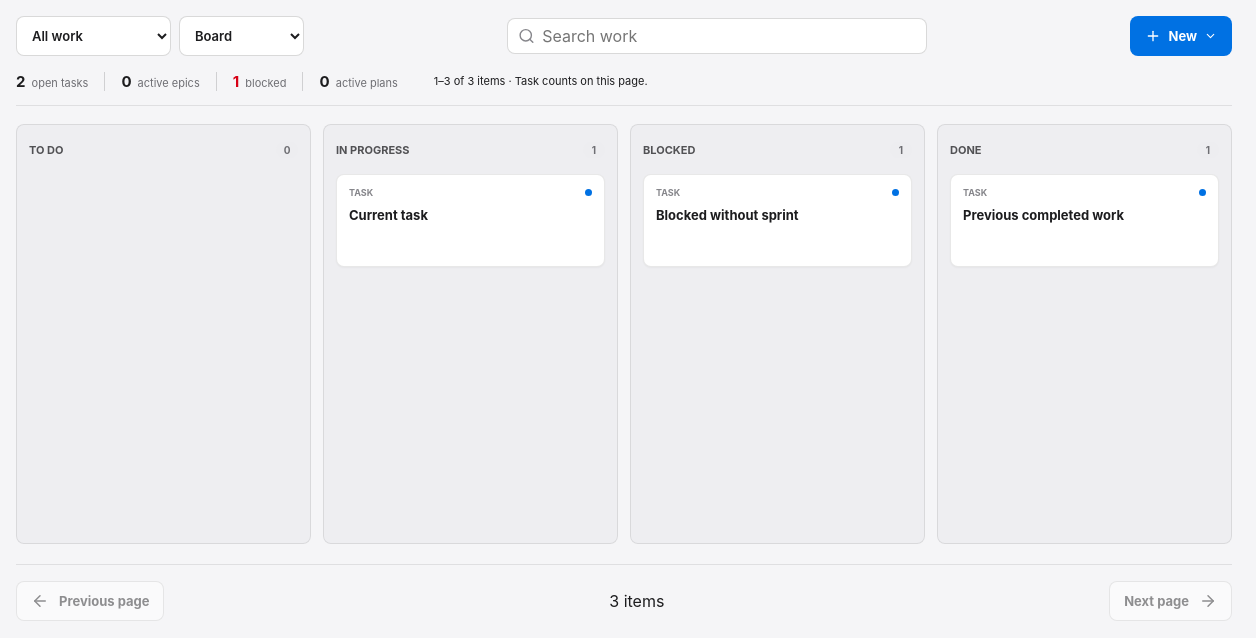
Sprint Work › avoids duplicate scope headings and keeps page counts next to the work summary
Expected: the text "Current task" is shown, [349,207,428,223]
Expected: the dropdown named "Work scope" shows "All work", [16,16,171,56]
Click the button "New" at (1181, 36), box [1130,16,1232,56]
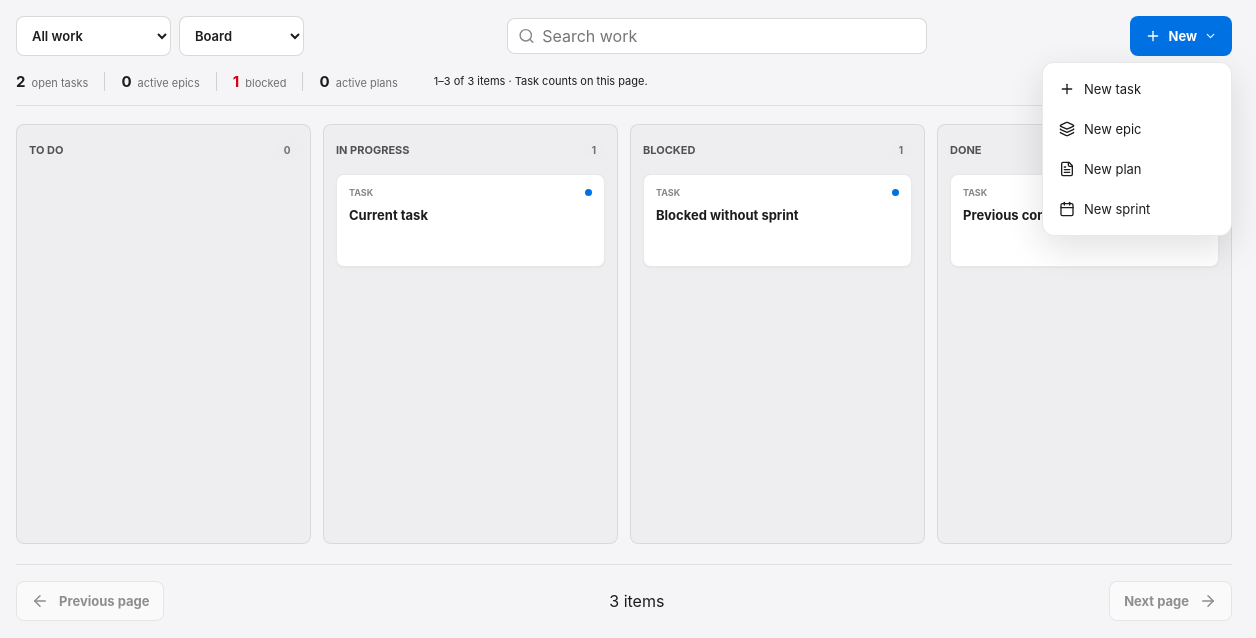
Result: the button "New sprint" is shown at [1049,189,1225,229]
